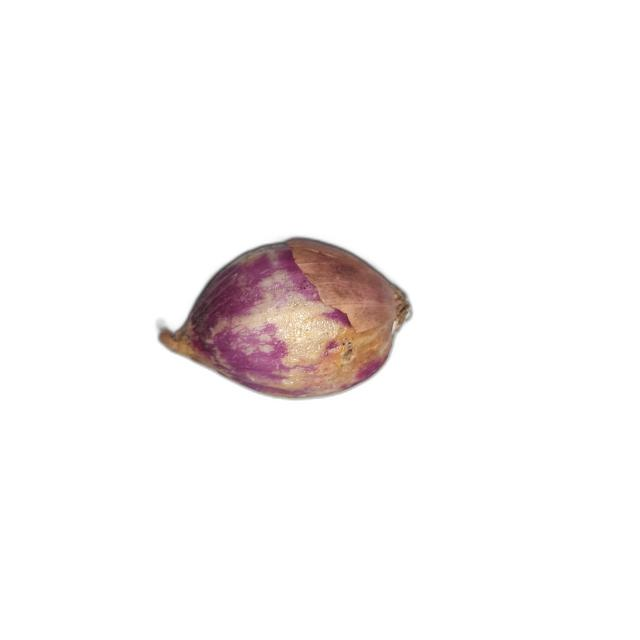onion: (156, 237, 414, 400)
